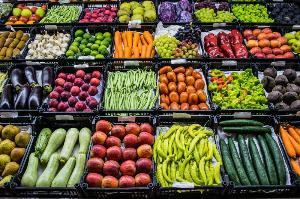apple: (84, 116, 162, 192), (246, 28, 300, 60), (2, 2, 46, 28)
bell_pepper: (155, 117, 219, 188), (206, 63, 268, 114), (201, 26, 249, 60), (232, 4, 274, 24)
carrot: (115, 26, 156, 60)
cucumber: (217, 121, 285, 193)
eggplant: (0, 64, 57, 110)
garlic: (26, 29, 70, 60)
grape: (153, 24, 201, 62)
kiwi: (1, 30, 30, 58)
lime: (67, 30, 113, 60)
plum: (49, 66, 102, 114), (79, 3, 117, 24)
tomato: (158, 64, 206, 114)
zucchini: (18, 119, 94, 195)
